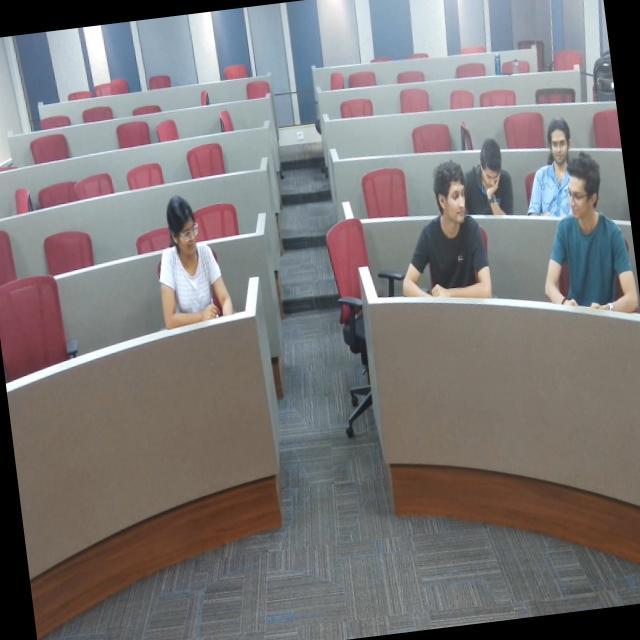cheating: (542, 160, 639, 346), (397, 158, 497, 308)
